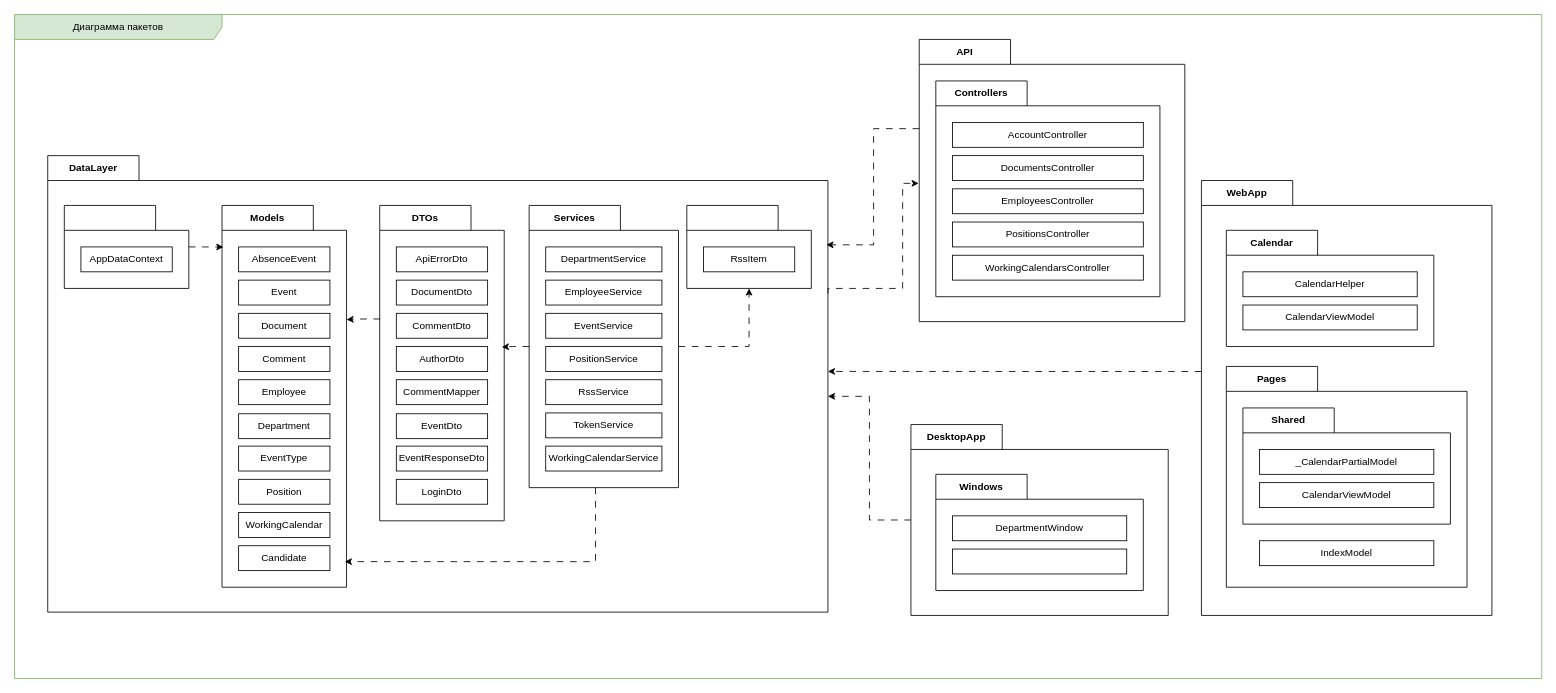
The diagram is 1556 pixels wide and 693 high, and some of its shapes have lost their labels. Each missing label, with the centre of its shape:
"DataContexts" goes at (126,246).
"EmployeeWindow" goes at (1039,561).
"Rss" goes at (748,246).
